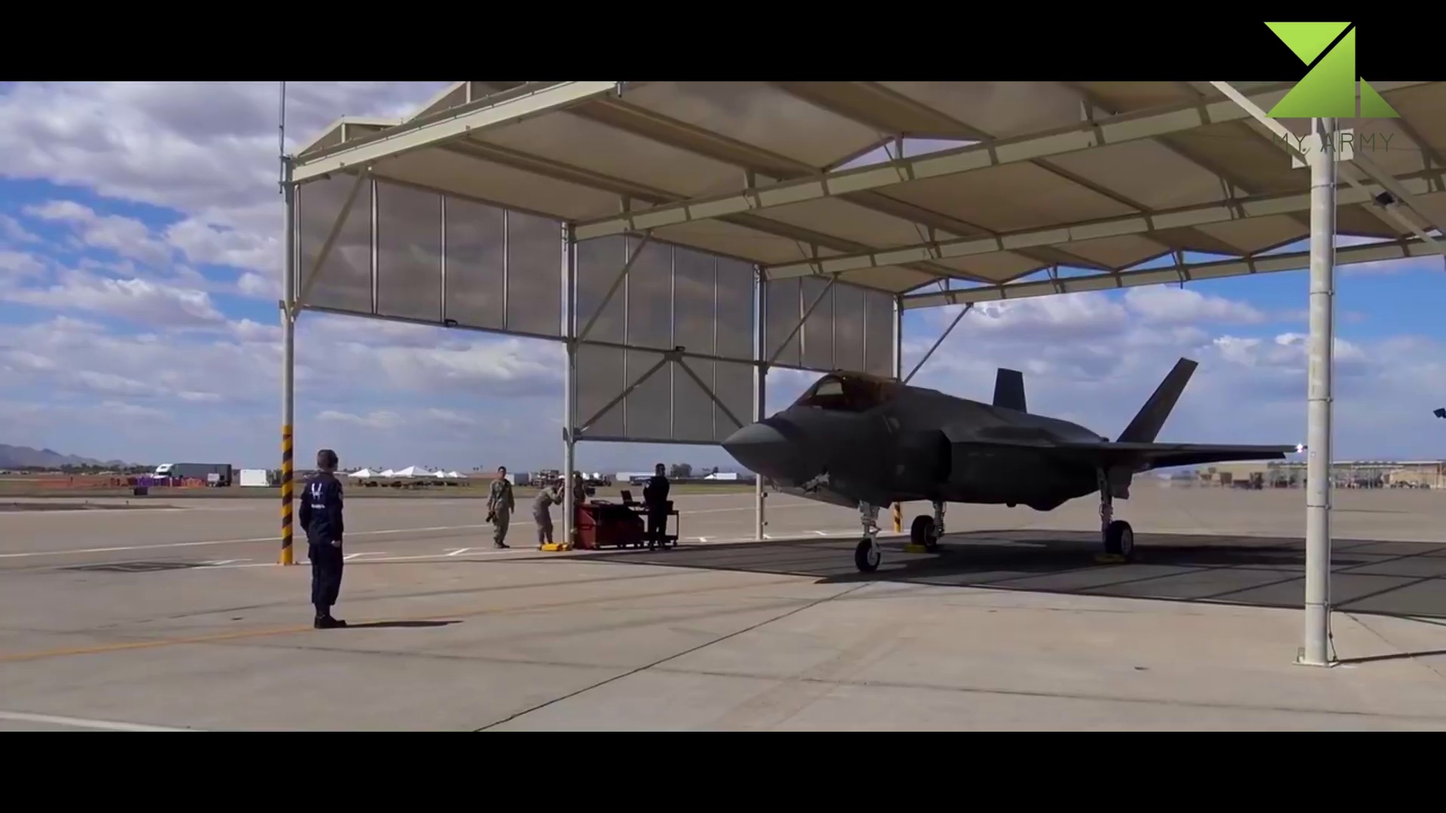F35: (715, 348, 1304, 577)
